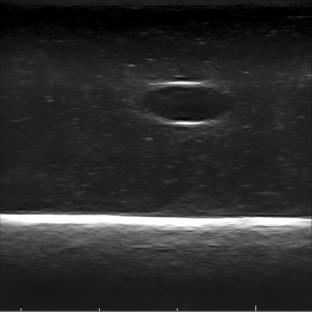vessel: (134, 81, 233, 128)
